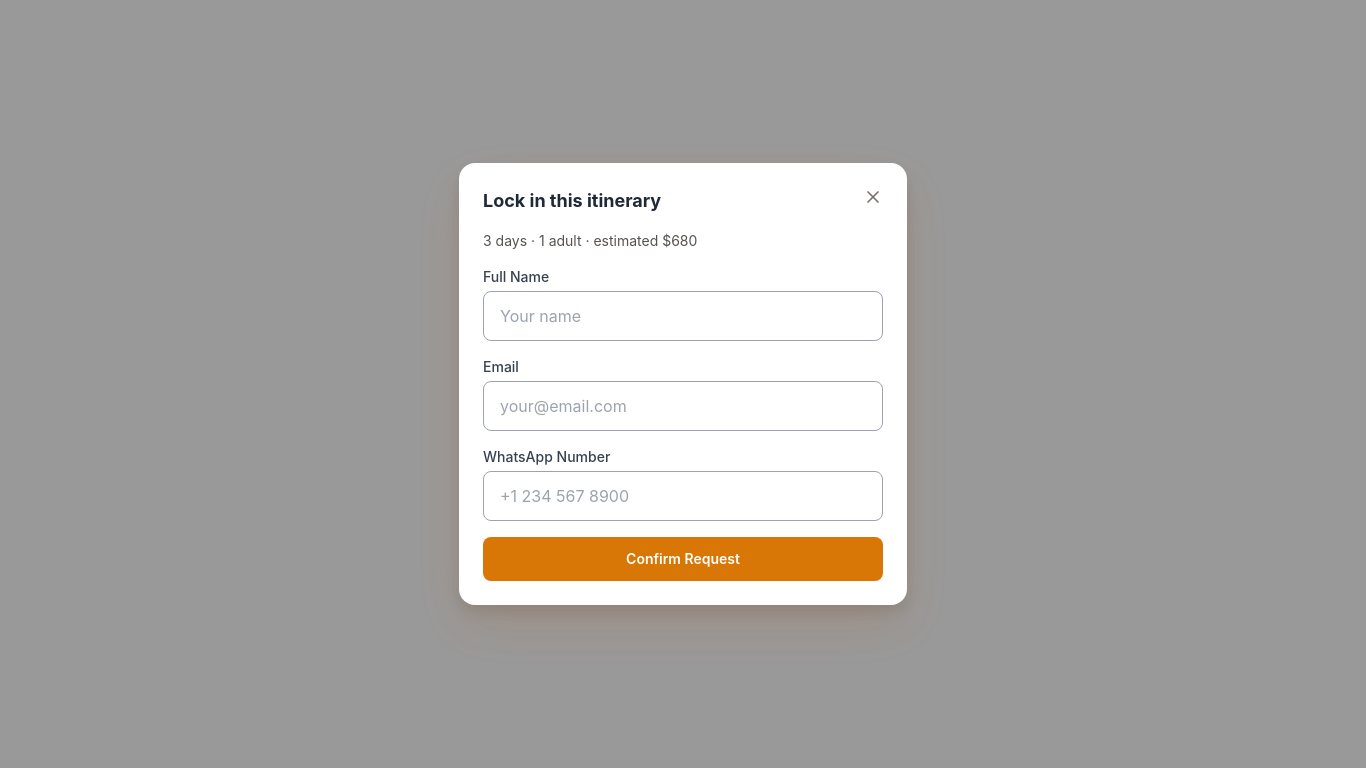
Test: LockInDrawer › shows an inline error and preserves input when the submission fails
Type "Jane Doe" into the field labelled "Full Name" at (683, 316), box x1=483 y1=291 x2=883 y2=341
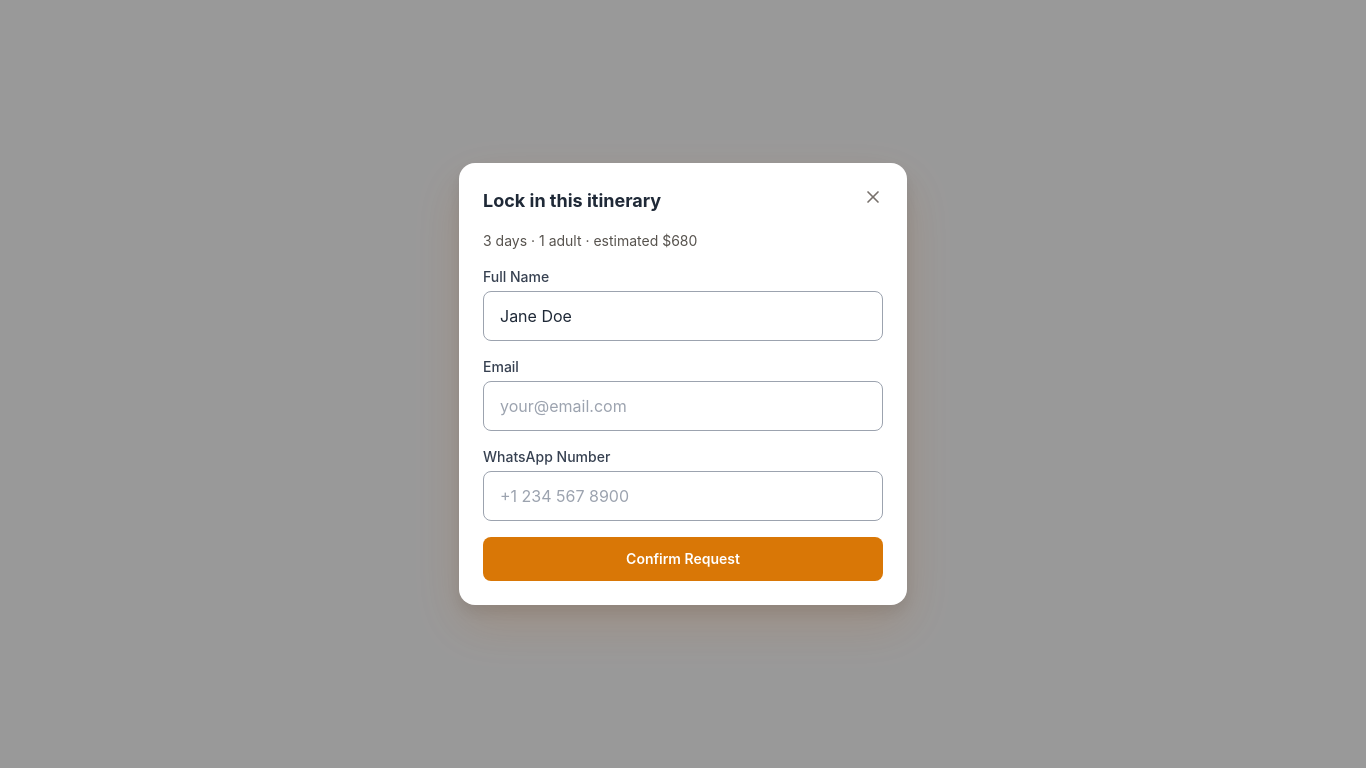
Type "jane@example.com" into the field labelled "Email" at (683, 406), box x1=483 y1=381 x2=883 y2=431
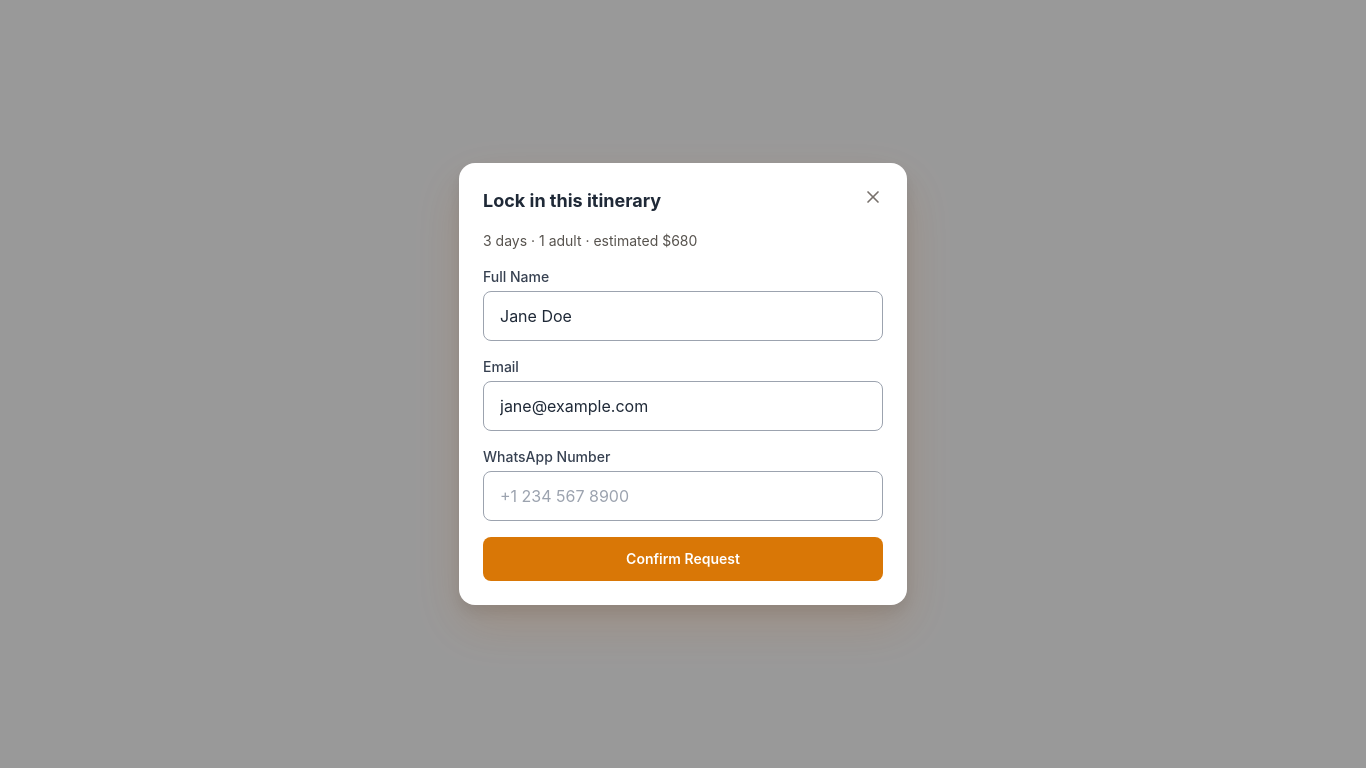
Click the button "Confirm Request" at (683, 559), box x1=483 y1=537 x2=883 y2=581
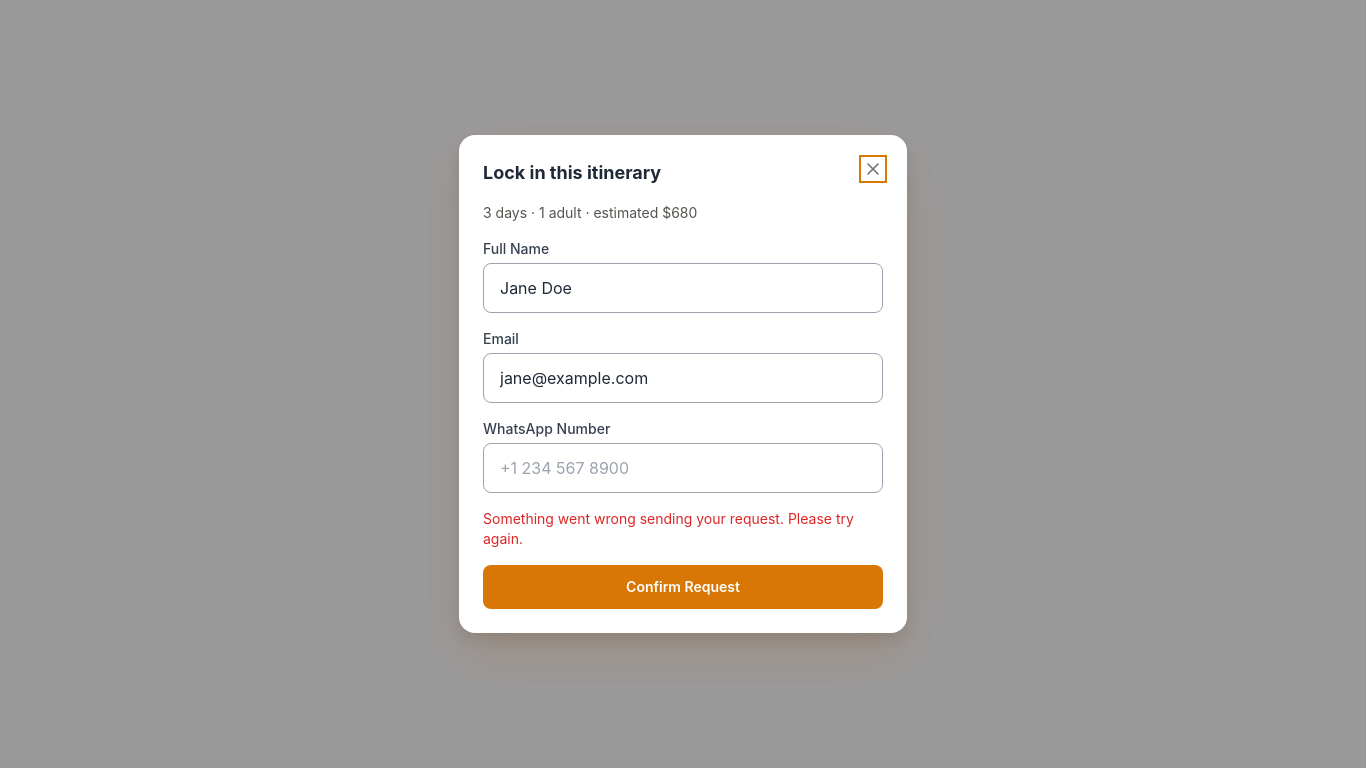
Check: the text "Something went wrong sending your request. Please try again." is shown, box x1=483 y1=509 x2=883 y2=549
